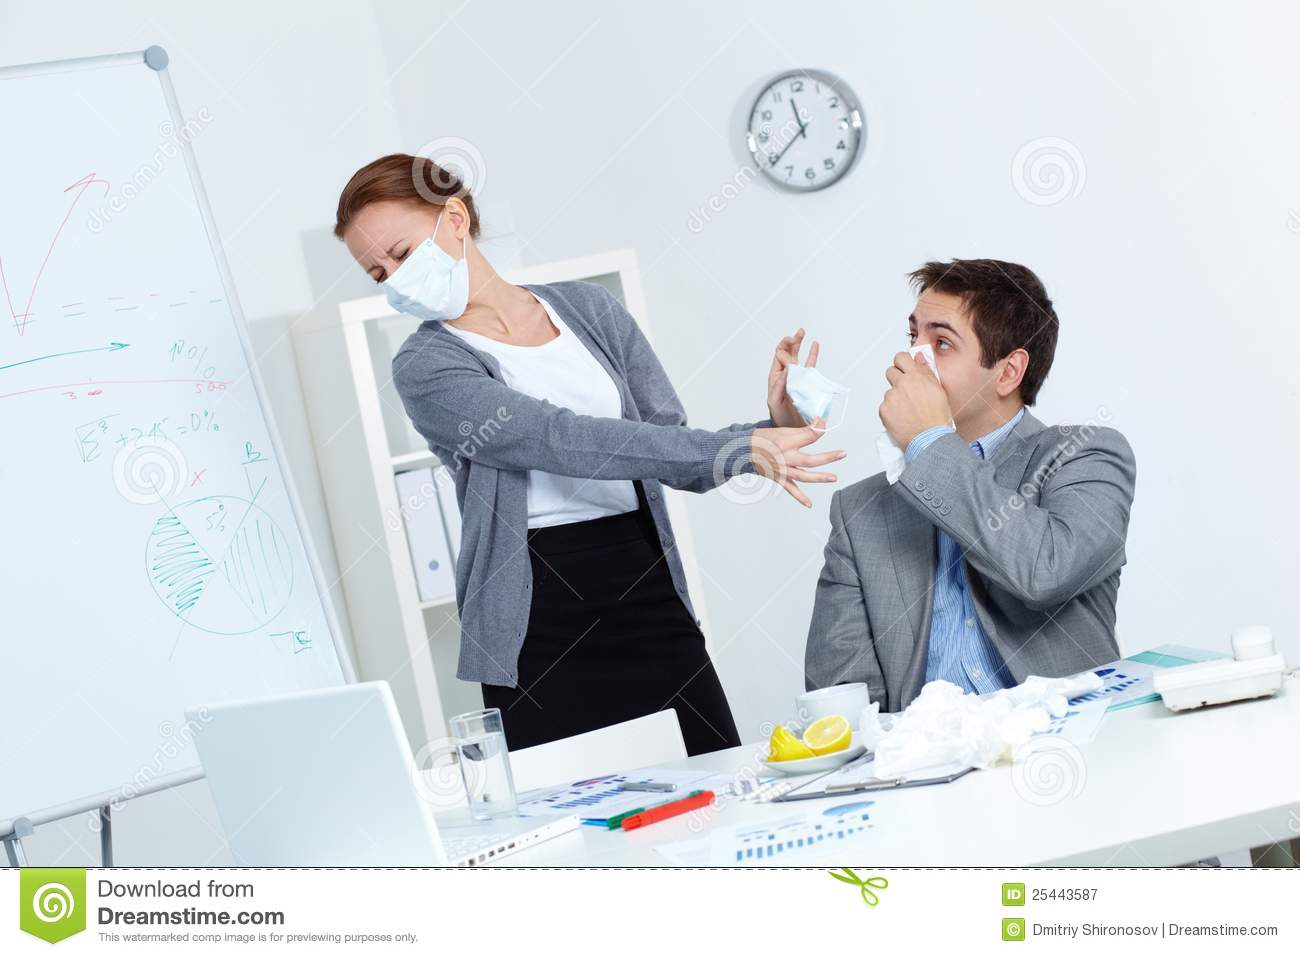mask: (383, 244, 471, 326)
